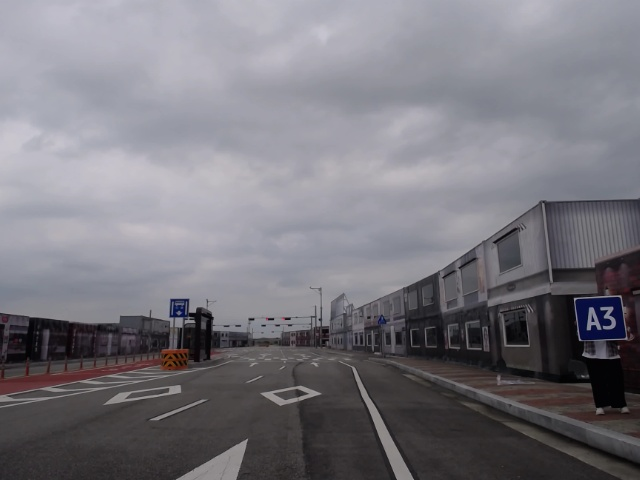delivery_a3: (575, 296, 627, 341)
